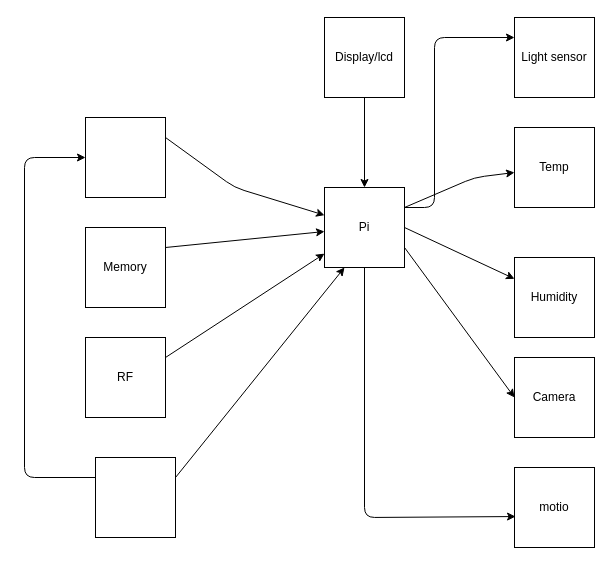
The diagram is 612 pixels wide and 565 high, and some of its shapes have lost their labels. The centre of each missing label's shape, as x and y in pixels:
Battery: [125,157]
solar: [135,497]
